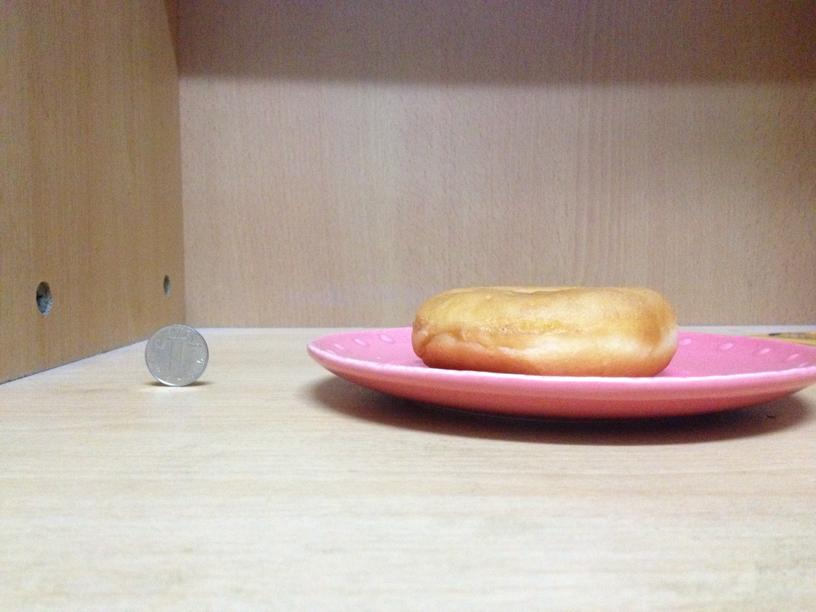coin: (142, 324, 209, 386)
doughnut: (414, 284, 678, 377)
